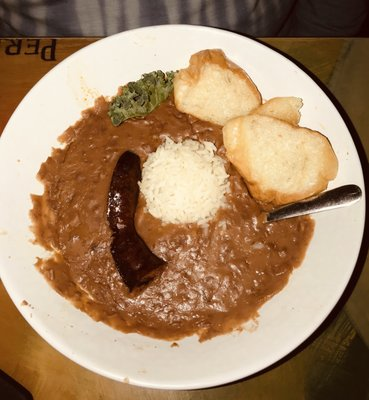curry: (108, 69, 176, 127)
salad: (265, 184, 362, 223)
